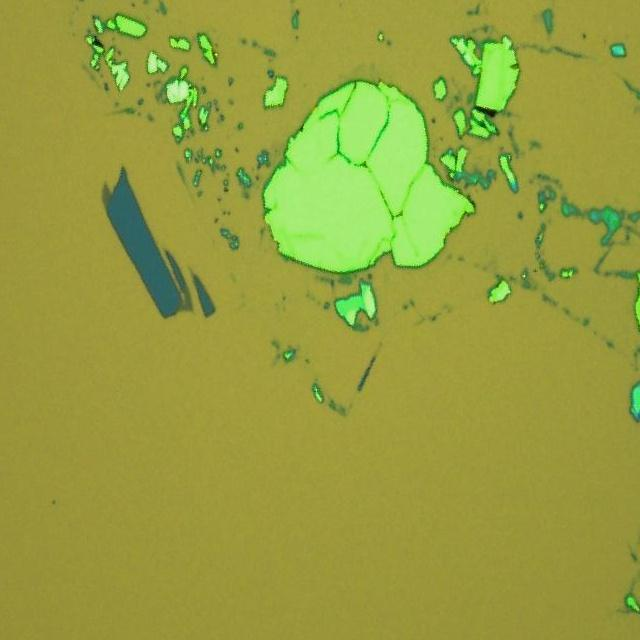monolayer-eWW4: (176, 285, 192, 311), (100, 180, 112, 208)
